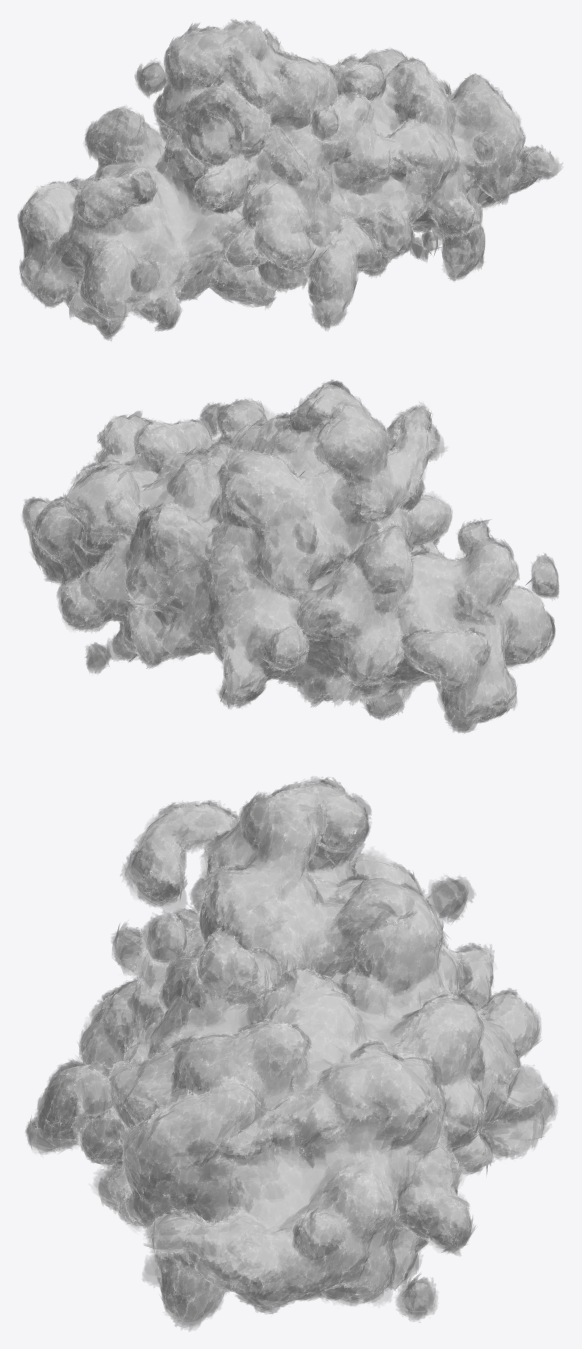
The model's file is cloud_optimized.glb.
The picture shows the model from 3 angles, top to bottom: view 1: azimuth 30°, elevation 25°; view 2: azimuth 150°, elevation 25°; view 3: azimuth 270°, elevation 25°; orthographic projection. The views are drawn at different scales.
Parts seen in each view (by area): view 1: Cloud GN.001_2; view 2: Cloud GN.001_2; view 3: Cloud GN.001_2.
Boxes of the visible parts, x1,y1,x2,y2 form: Cloud GN.001_2: [17, 19, 562, 340]; Cloud GN.001_2: [21, 379, 558, 733]; Cloud GN.001_2: [25, 776, 557, 1331].
Size of the model in its own units: 11.15 by 6.39 by 7.58.
Materials: 1 (1 with a texture image).
